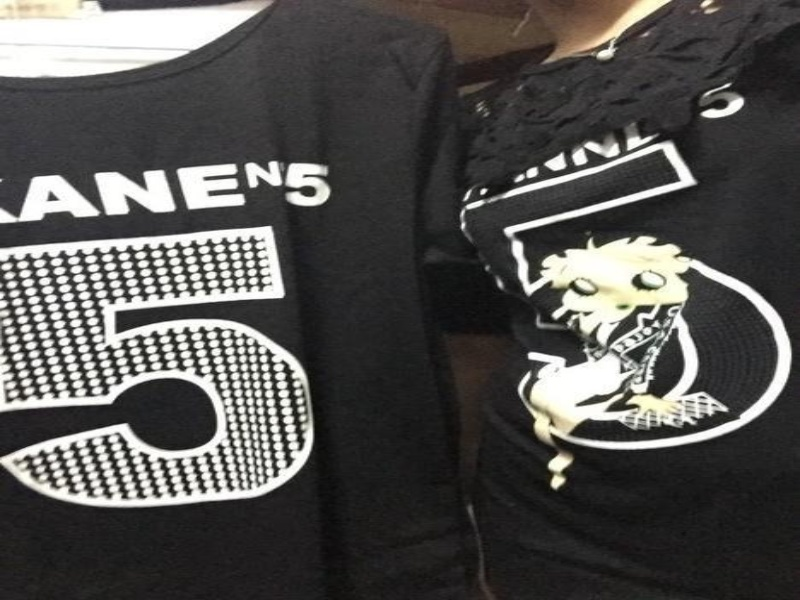short_sleeved_dress: (438, 0, 798, 599)
short_sleeved_shirt: (0, 0, 482, 599)
